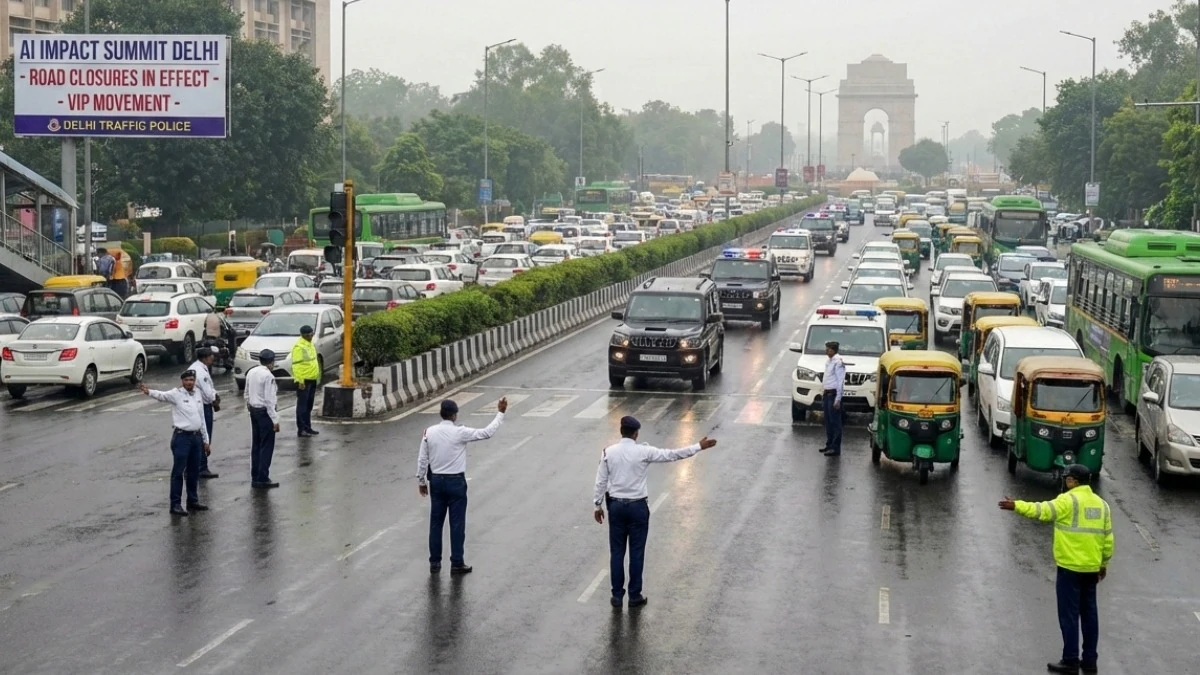auto_rickshaw: (866, 348, 963, 483), (1015, 364, 1115, 464), (963, 293, 1022, 350), (210, 256, 266, 307), (878, 297, 933, 348), (885, 229, 929, 276), (944, 221, 991, 262)
bus: (1070, 226, 1200, 369), (306, 188, 453, 246), (980, 187, 1056, 256)
car: (0, 314, 140, 412), (977, 324, 1081, 447), (600, 279, 713, 386), (801, 304, 879, 420), (1145, 367, 1200, 495), (926, 269, 1039, 327), (241, 299, 341, 358), (709, 250, 781, 331), (123, 296, 215, 347), (1033, 245, 1076, 324), (687, 267, 999, 276), (764, 235, 821, 283), (394, 266, 459, 308), (351, 279, 416, 314), (839, 270, 912, 301), (136, 258, 205, 290), (797, 208, 841, 255), (470, 256, 527, 286), (278, 245, 334, 275), (262, 267, 306, 299), (532, 242, 572, 272)
person: (578, 408, 719, 618), (1002, 460, 1132, 675), (406, 383, 514, 593), (143, 365, 204, 531), (237, 344, 280, 509), (187, 347, 227, 483), (808, 340, 845, 461), (289, 318, 324, 443), (92, 238, 111, 287)
